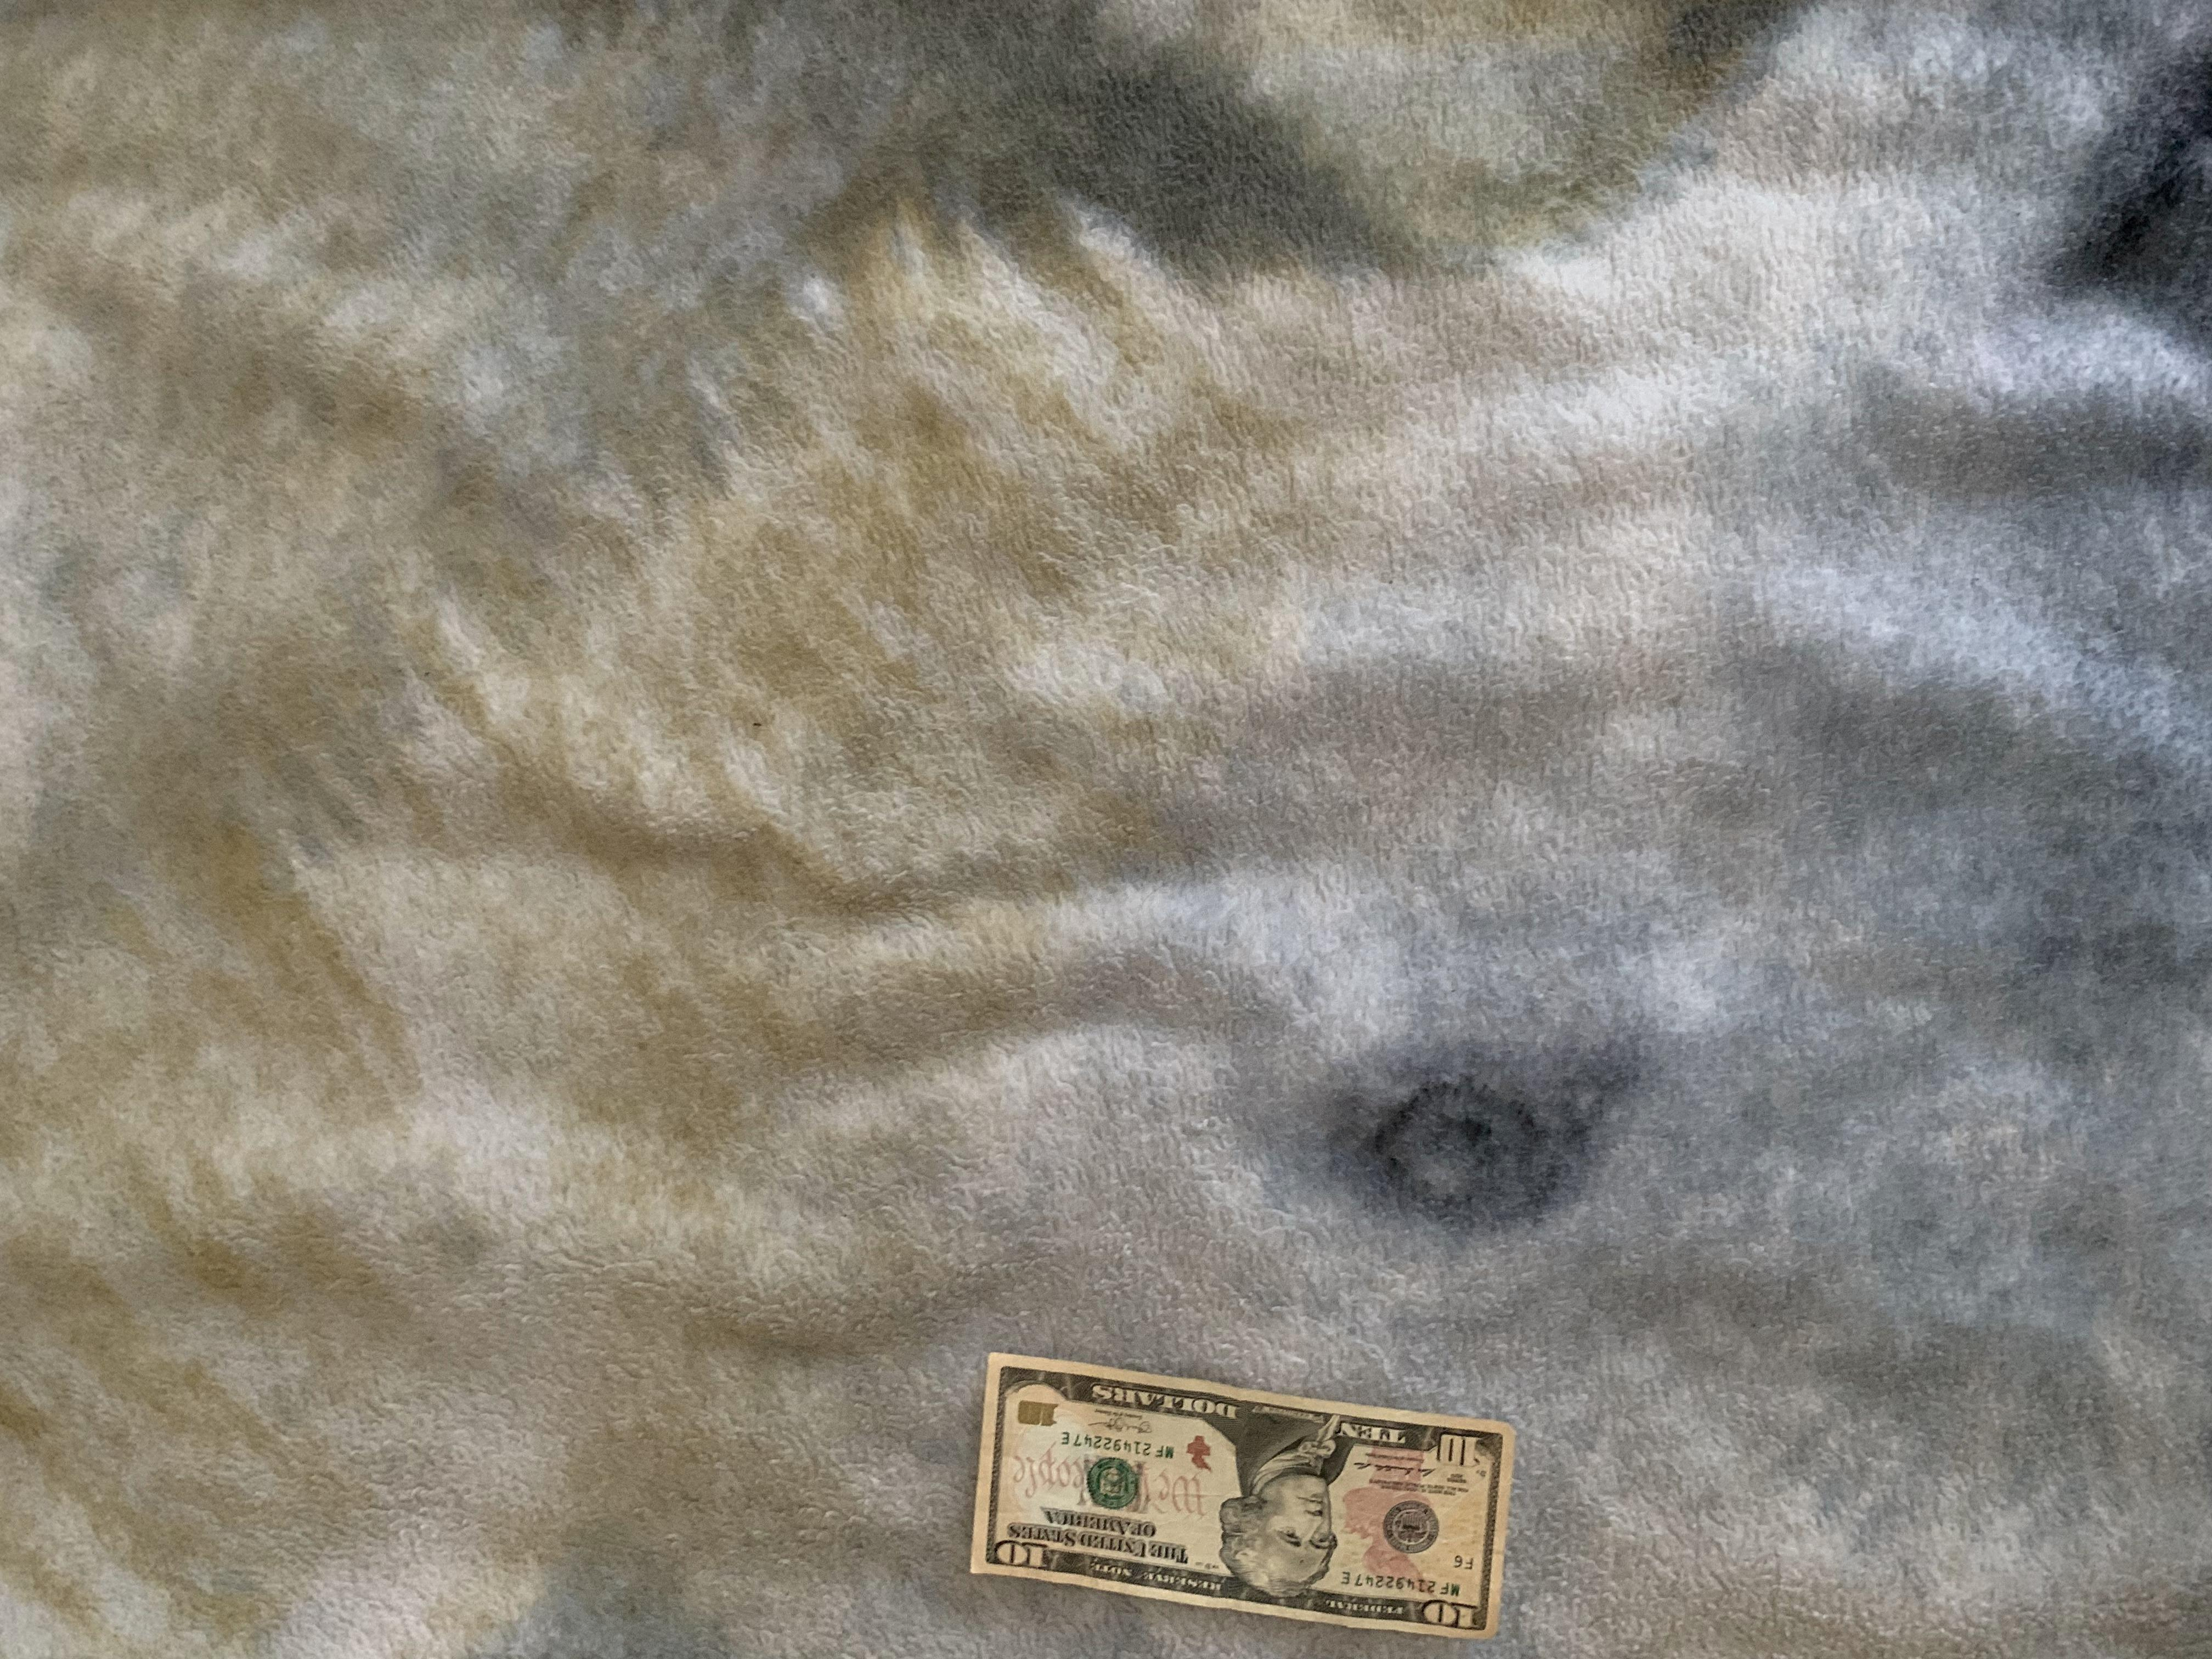TenBill: (960, 1351, 1517, 1642)
